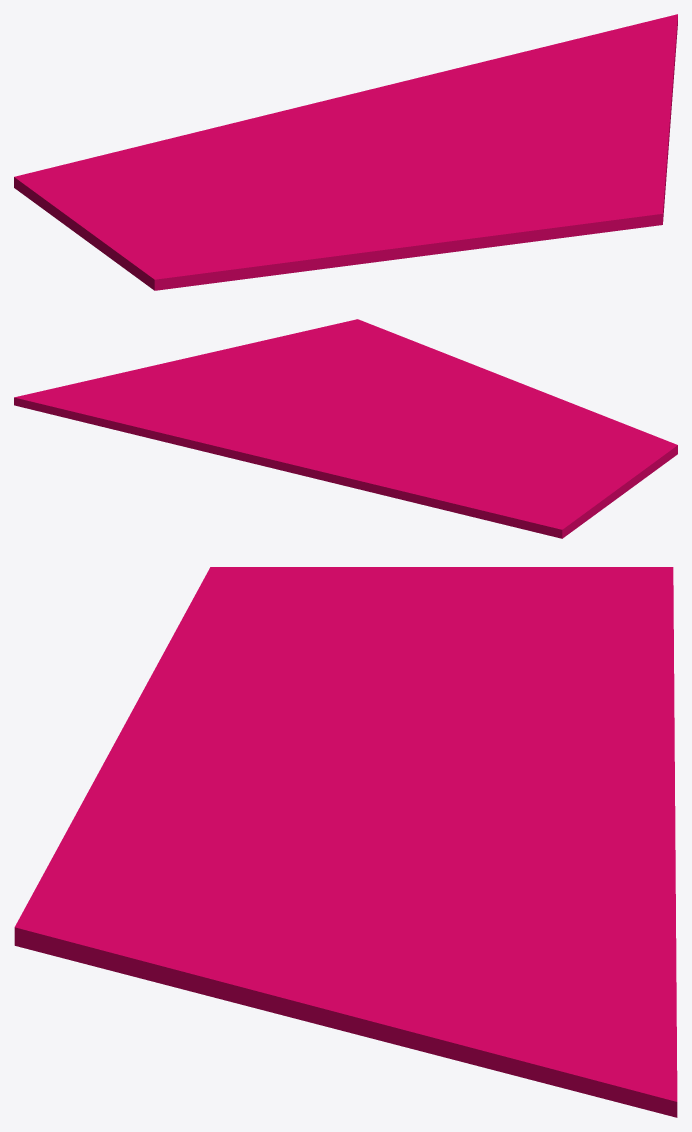
File: Board_Form_05.fbx
3 renders of one model, top to bottom at view 1: azimuth 30°, elevation 25°; view 2: azimuth 150°, elevation 25°; view 3: azimuth 270°, elevation 25°, orthographic. The views are drawn at different scales.
Parts seen in each view (by area): view 1: Board_Form_05; view 2: Board_Form_05; view 3: Board_Form_05.
Boxes of the visible parts, x1,y1,x2,y2 form: Board_Form_05: [14, 14, 677, 290]; Board_Form_05: [14, 319, 677, 538]; Board_Form_05: [14, 567, 677, 1117].
Size of the model in its own units: 14.76 by 0.2378 by 7.74.
